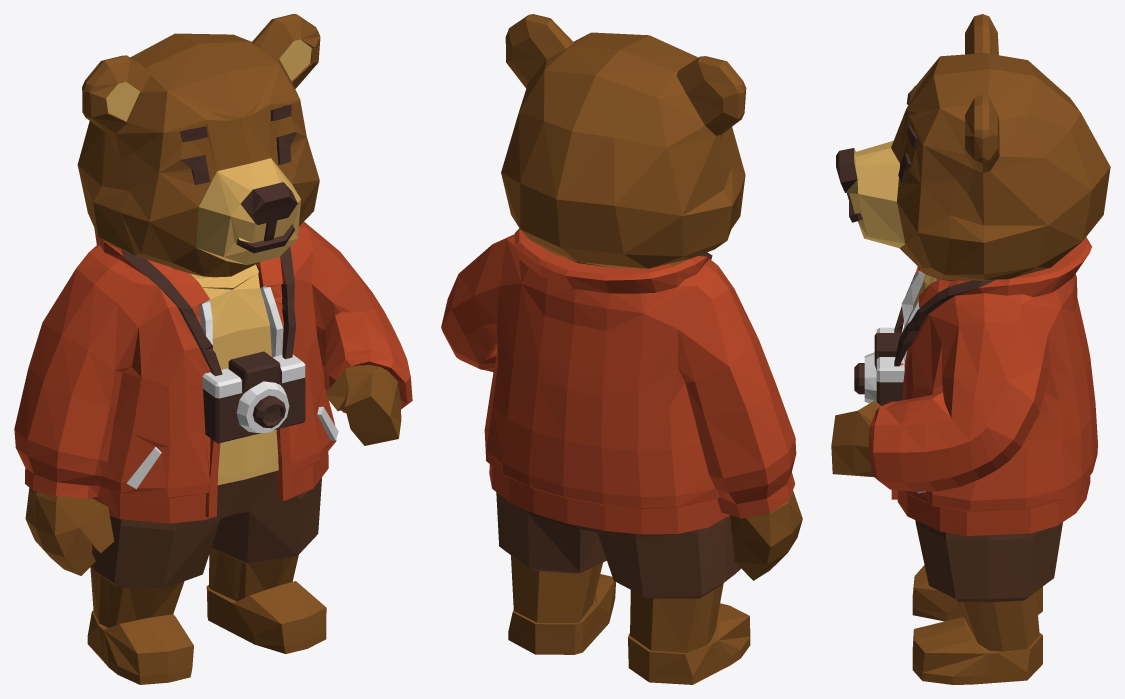
The model's file is bear_01.fbx.
3 renders of one model, left to right at view 1: azimuth 30°, elevation 25°; view 2: azimuth 150°, elevation 25°; view 3: azimuth 270°, elevation 25°, orthographic. The views are drawn at different scales.
Visible parts, largest first — view 1: bear_01; view 2: bear_01; view 3: bear_01.
Part boxes in pixels (box(x1,y1,x2,y2)): bear_01: box(14, 14, 412, 684); bear_01: box(441, 14, 802, 684); bear_01: box(831, 14, 1110, 684).
Size of the model in its own units: 114 by 190 by 83.22.
